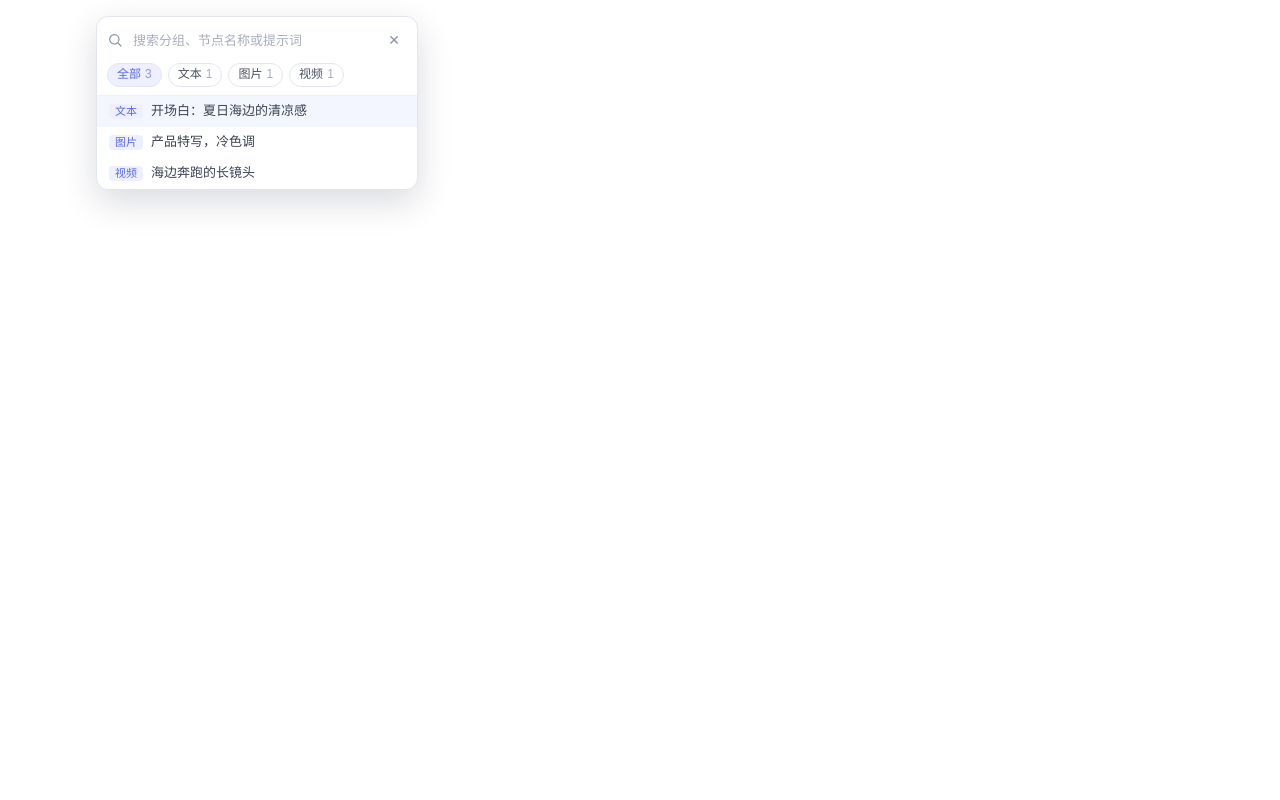
Test: CanvasNodeSearch › 匹配不到时明说没有结果，而不是留一片空白
In the field: (252, 40) [131,25,373,55], type "不存在的词"
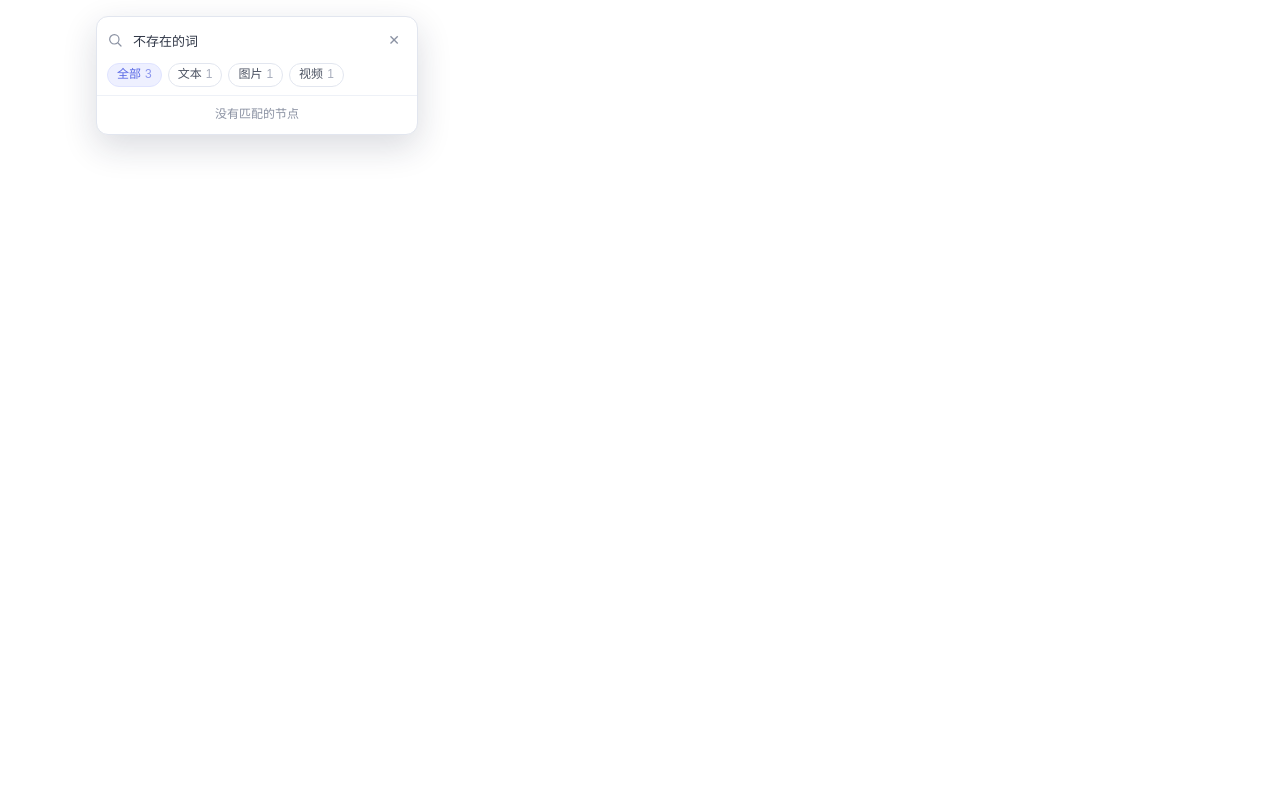
Check: the text "没有匹配的节点" is shown, box [215,107,299,121]
Check: no options are shown
